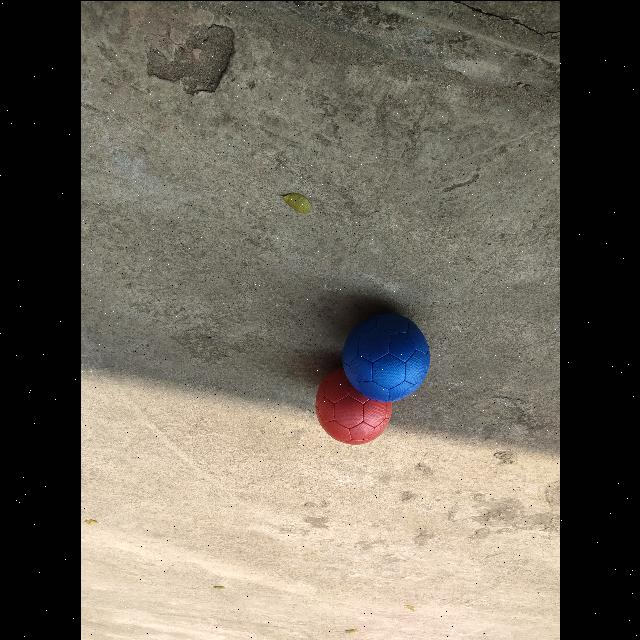B: (342, 313, 429, 400)
R: (315, 367, 391, 444)
